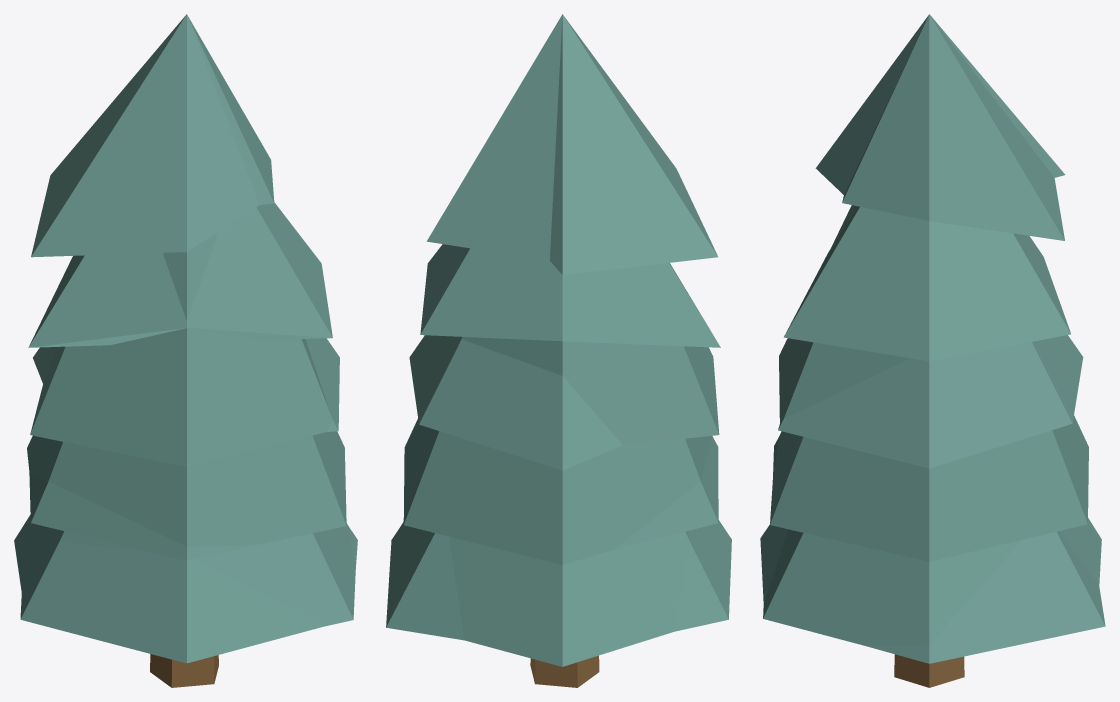
The model's file is Pine_008.fbx.
The picture shows the model from 3 angles, left to right: view 1: azimuth 30°, elevation 25°; view 2: azimuth 150°, elevation 25°; view 3: azimuth 270°, elevation 25°; orthographic projection.
Visible parts, largest first — view 1: Pine.008; view 2: Pine.008; view 3: Pine.008.
Part boxes in pixels (left/top/right/bottom): Pine.008: left=14, top=14, right=357, bottom=687; Pine.008: left=386, top=14, right=731, bottom=687; Pine.008: left=760, top=14, right=1105, bottom=687.
Bounding box in the file's own units: 3.98 × 7.44 × 3.53.
